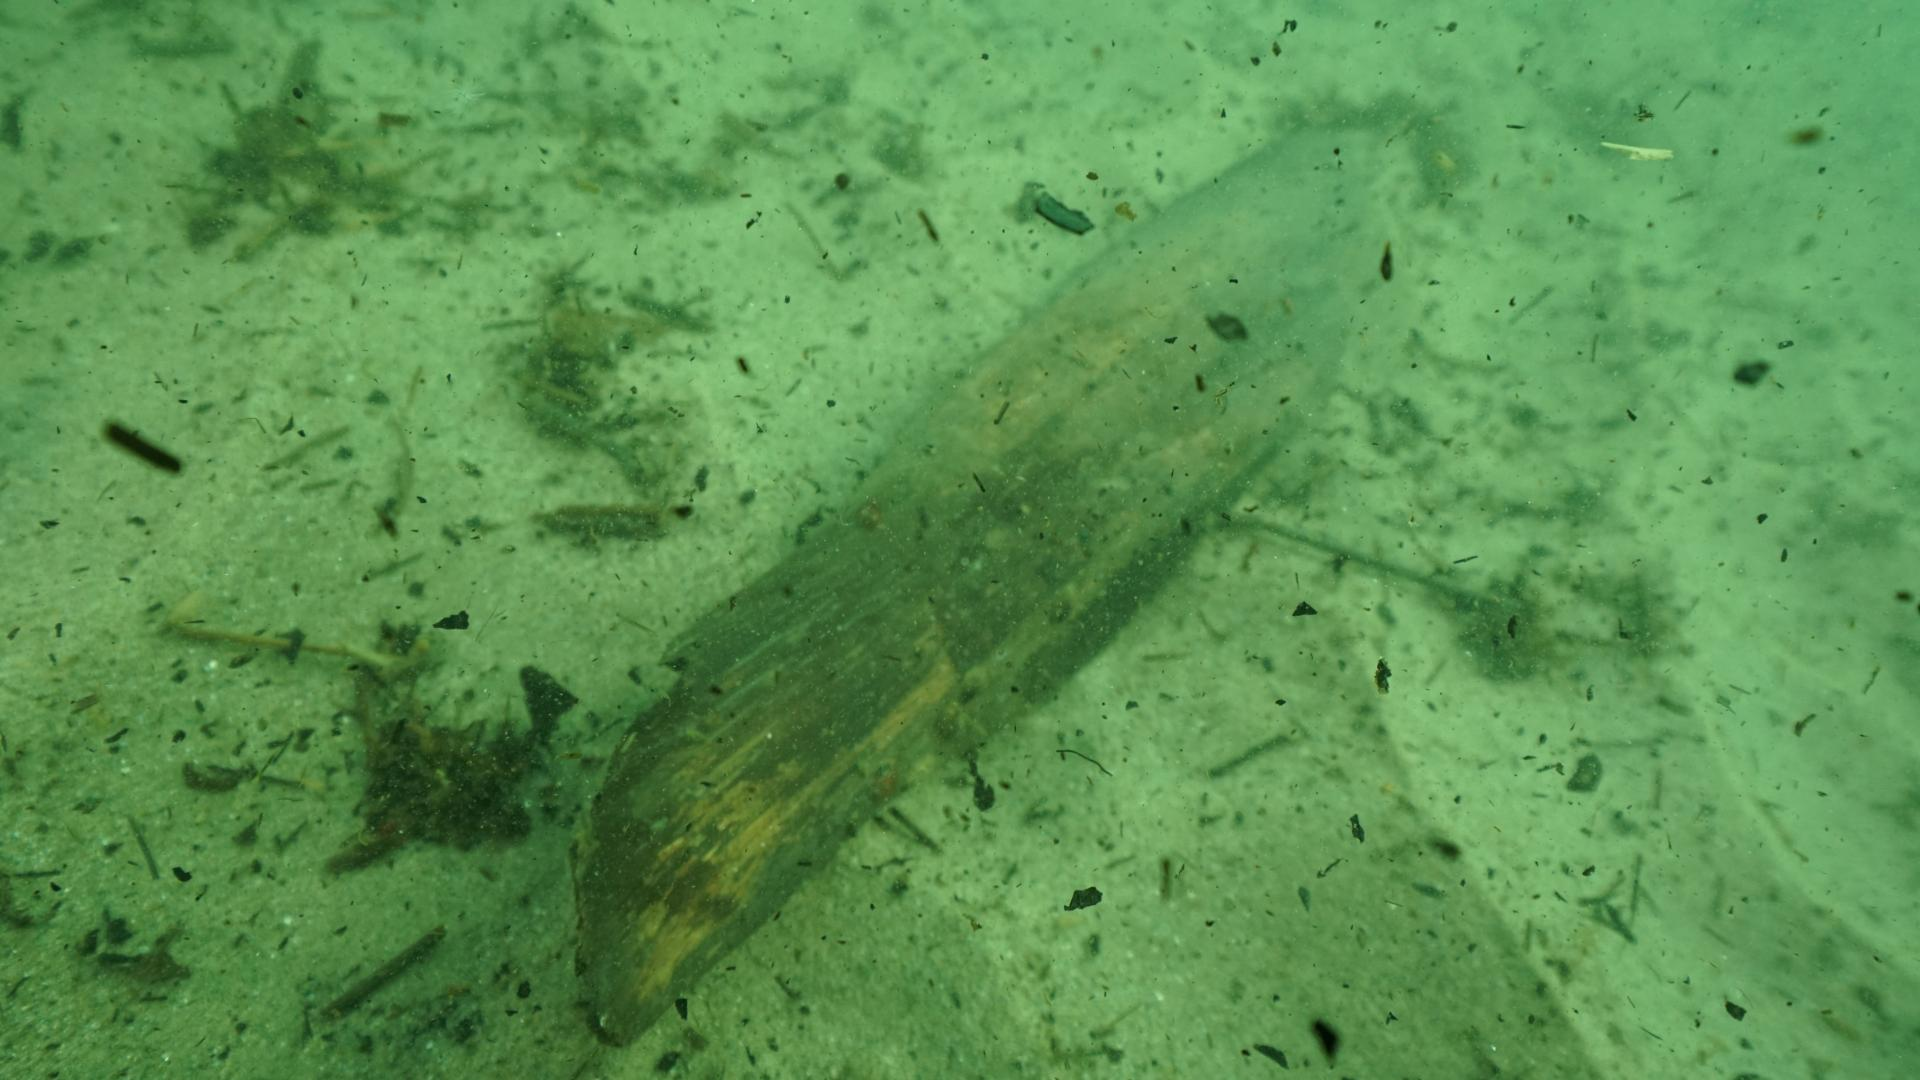wood: (566, 123, 1418, 1055)
